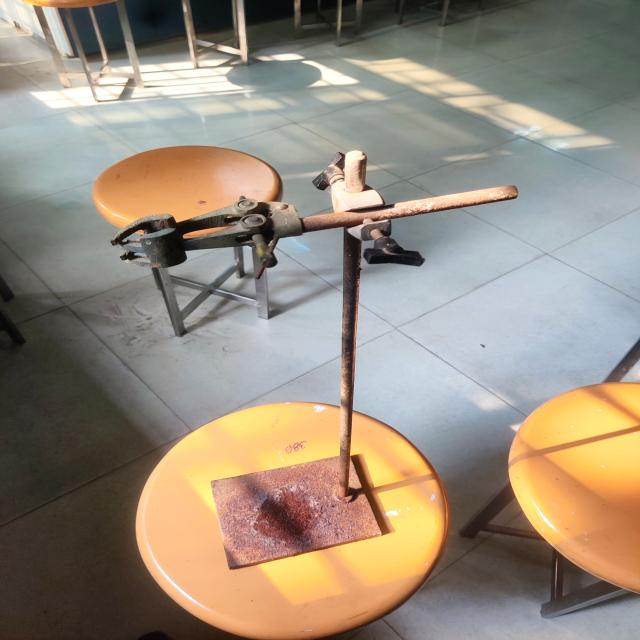Burette_Stands: (116, 140, 521, 587)
